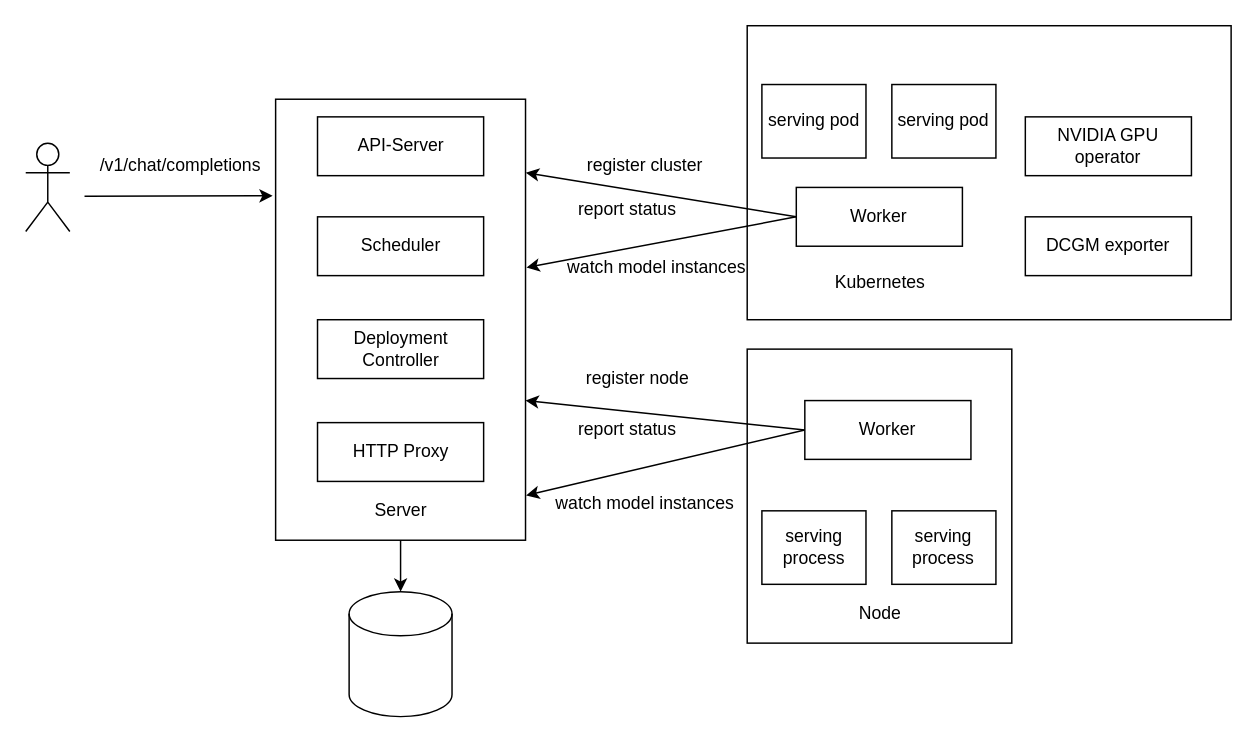
The diagram is 1257 pixels wide and 742 high, and some of its shapes have lost their labels. The shapes that lost their labels are listed below. From the top down, each one's centre as x and y in pixels, then its label:
the point at 47,187: Users
the point at 400,653: sqlite/pgsql
